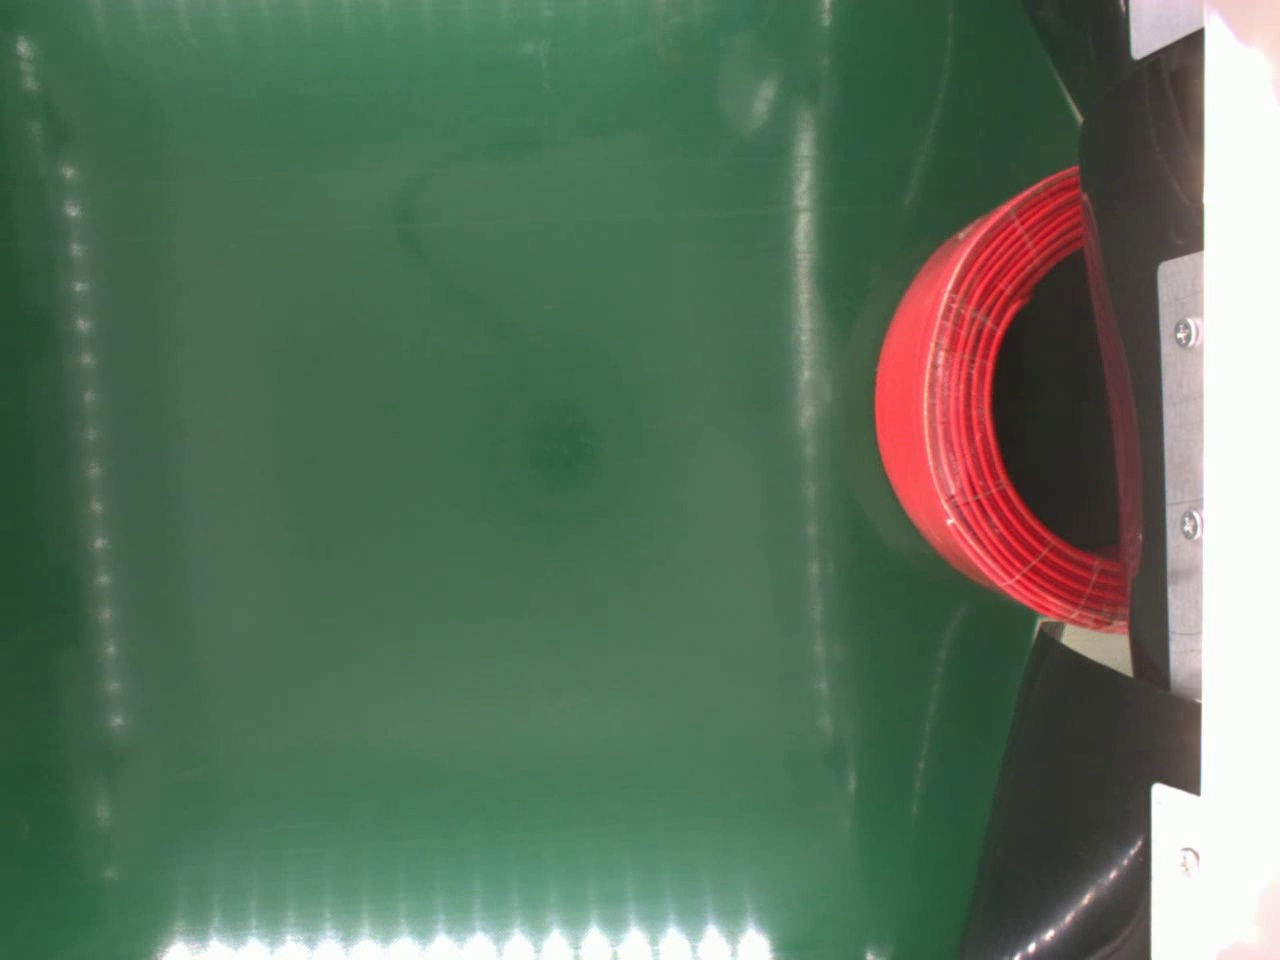red: (869, 162, 1125, 635)
